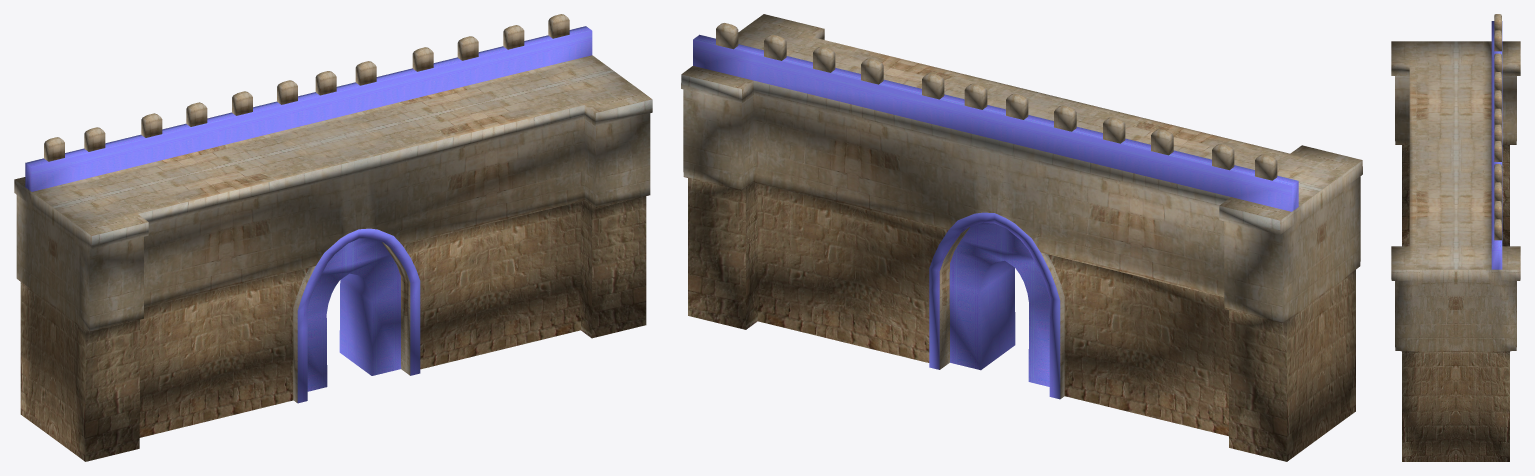
Rendered from entrance_small.gltf.
3 views of the same model, side by side, from view 1: azimuth 30°, elevation 25°; view 2: azimuth 150°, elevation 25°; view 3: azimuth 270°, elevation 25° (orthographic). The views are drawn at different scales.
Parts seen in each view (by area): view 1: entrance_small; view 2: entrance_small; view 3: entrance_small.
Boxes of the visible parts, x1,y1,x2,y2 form: entrance_small: (14,14,652,461); entrance_small: (681,14,1362,461); entrance_small: (1391,14,1520,461).
Size of the model in its own units: 5.57 by 2.61 by 1.33.
Materials: 2 (2 with a texture image).
